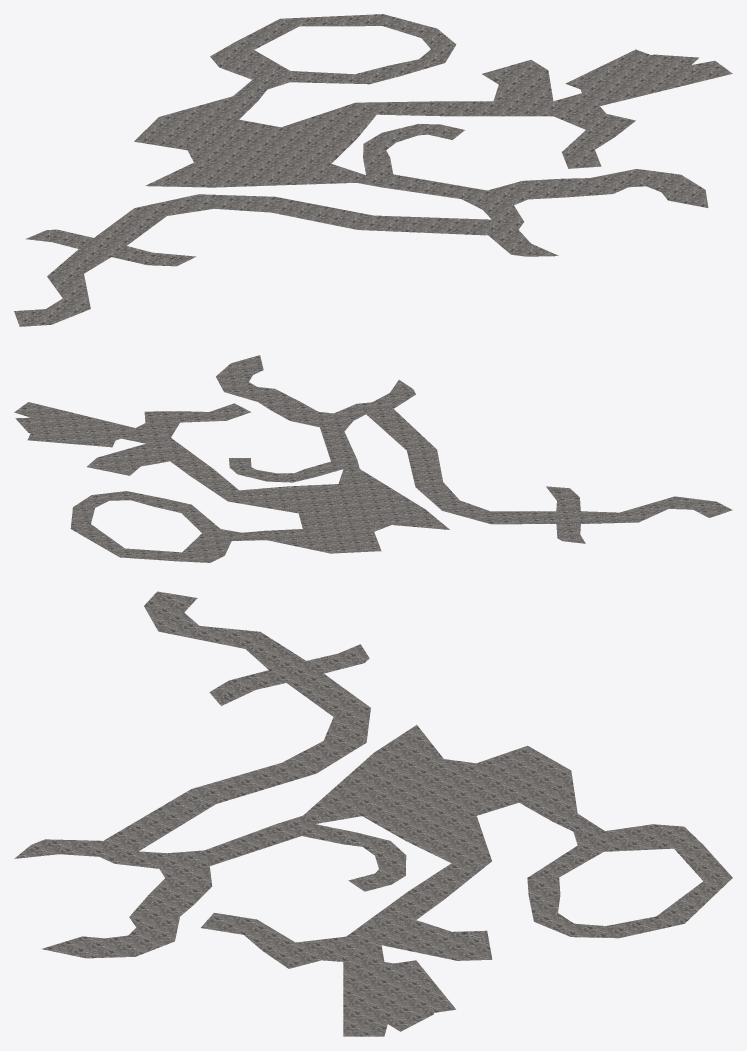
Rendered from CaveMapFloor.fbx.
3 views of the same model, one above another, from view 1: azimuth 30°, elevation 25°; view 2: azimuth 150°, elevation 25°; view 3: azimuth 270°, elevation 25° (orthographic). The views are drawn at different scales.
Parts seen in each view (by area): view 1: Chao; view 2: Chao; view 3: Chao.
Part boxes in pixels (box(x1,y1,x2,y2)): Chao: box(14, 14, 732, 326); Chao: box(14, 355, 732, 562); Chao: box(14, 591, 732, 1036).
Bounding box in the file's own units: 5138 × 1.09 × 3508.
1 material, 1 textured.
